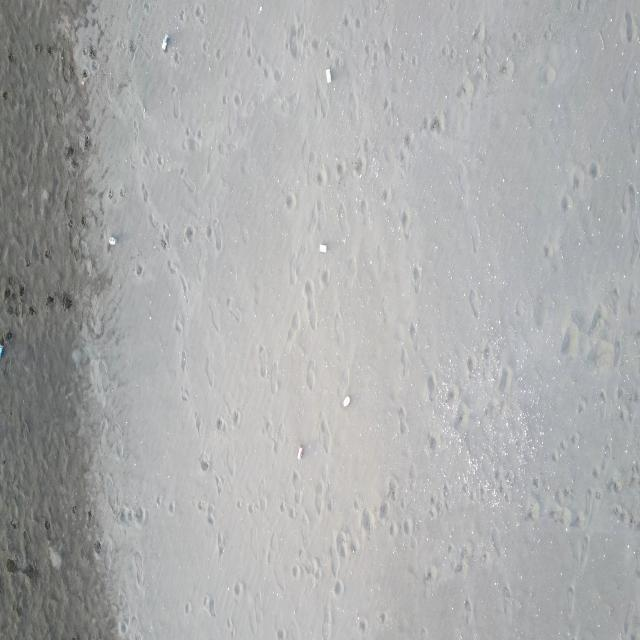Garbage: (0, 331, 12, 357), (161, 33, 167, 51), (324, 68, 331, 83), (342, 395, 350, 407), (296, 447, 303, 459), (319, 243, 326, 252), (0, 343, 4, 357), (108, 236, 116, 243)
